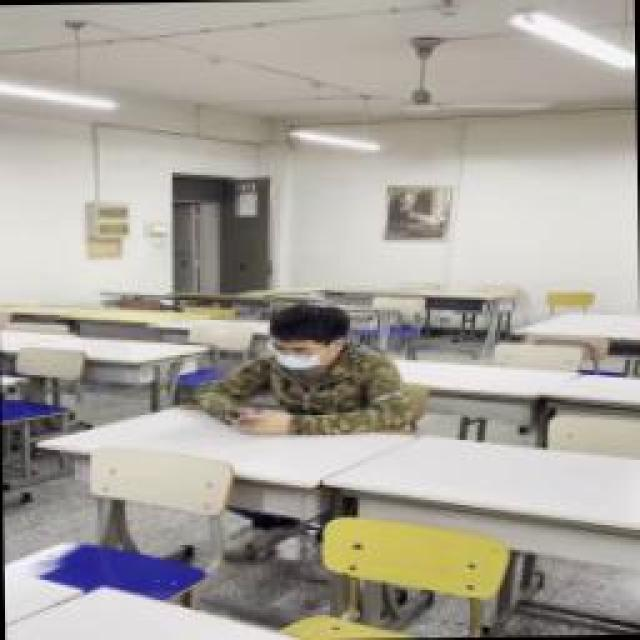phone: (190, 300, 412, 438)
